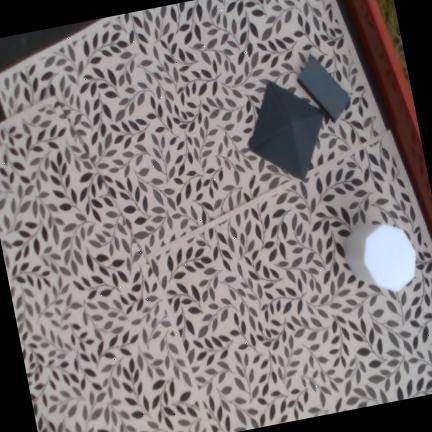Paralelepipedo: (297, 56, 352, 124)
Piramide: (249, 79, 325, 182)
Prisma_hexagonal: (344, 223, 416, 292)
